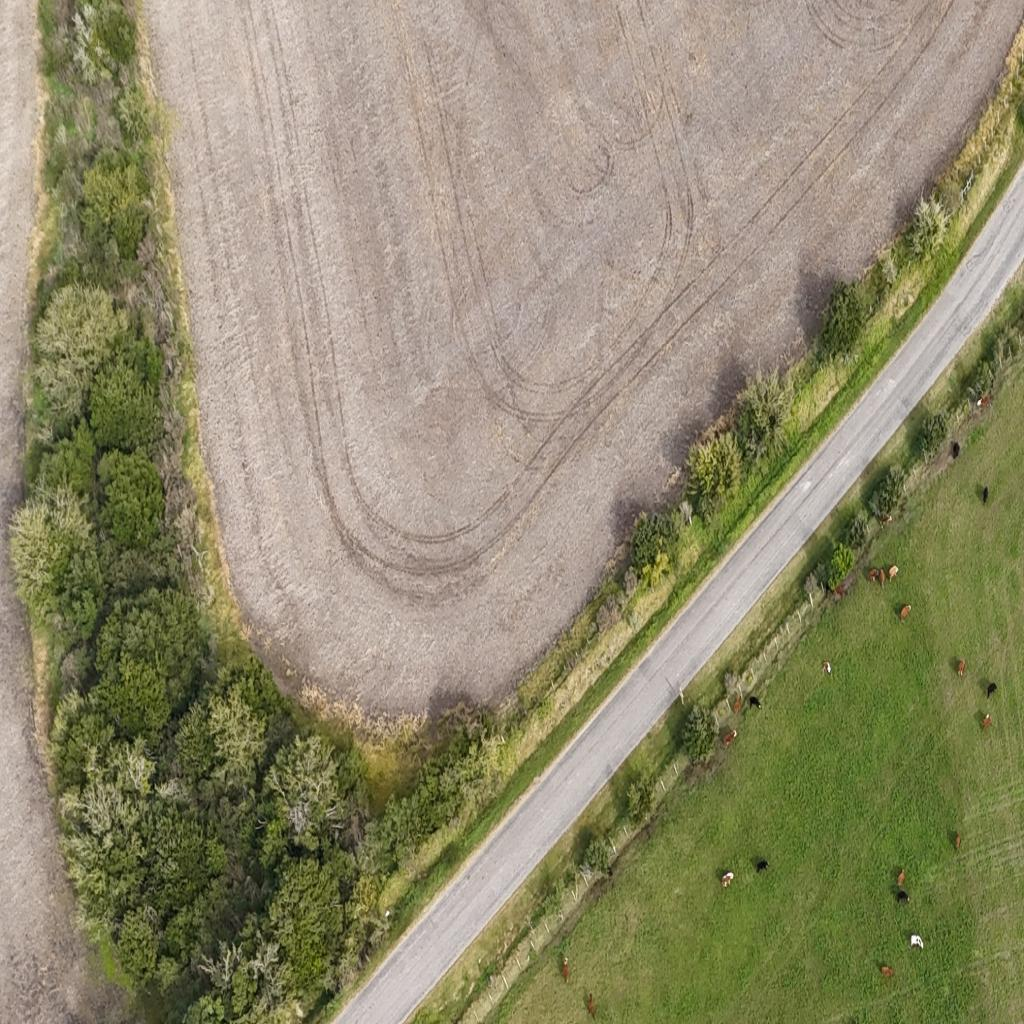cow: (584, 990, 598, 1022), (977, 394, 991, 412), (723, 730, 737, 746), (910, 934, 924, 950), (832, 583, 845, 600), (721, 872, 734, 889), (867, 567, 880, 583), (888, 564, 899, 582), (755, 859, 769, 873), (896, 890, 910, 904), (748, 696, 761, 710), (900, 604, 911, 620), (981, 485, 990, 504), (986, 682, 996, 699), (880, 964, 894, 976), (897, 869, 906, 887), (733, 695, 742, 713), (982, 714, 992, 730), (562, 958, 568, 984), (957, 660, 965, 678), (952, 441, 960, 459), (822, 660, 831, 676), (879, 568, 885, 590), (881, 515, 892, 527), (956, 833, 962, 851)
